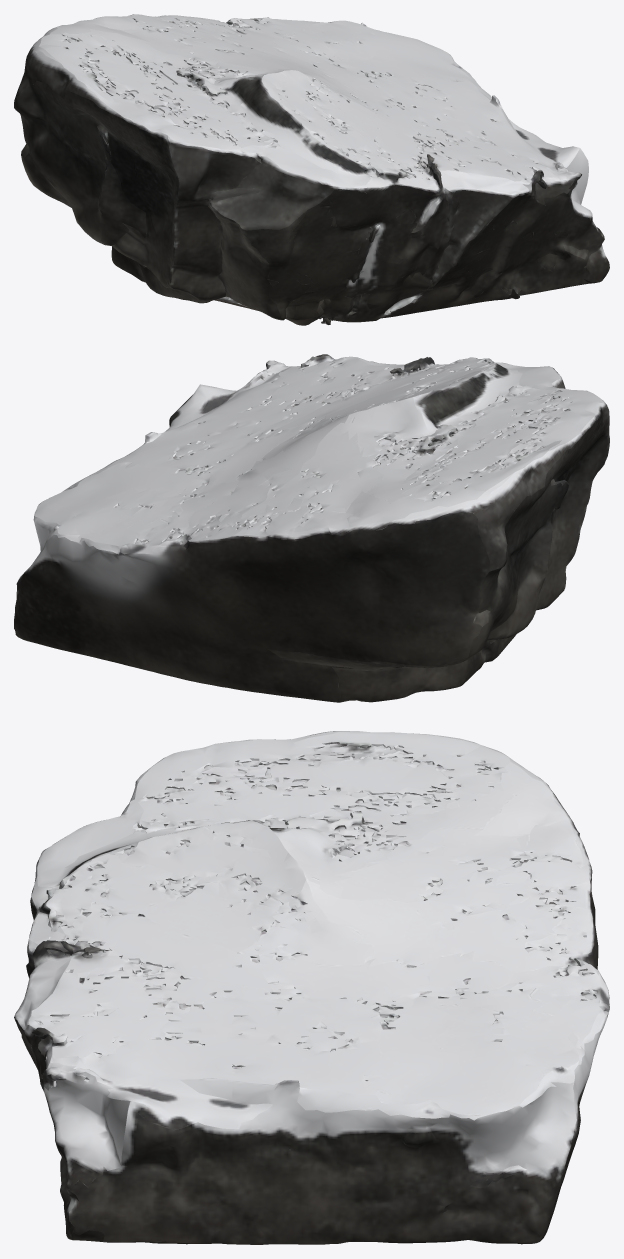
The picture shows the model from 3 angles, top to bottom: view 1: azimuth 30°, elevation 25°; view 2: azimuth 150°, elevation 25°; view 3: azimuth 270°, elevation 25°; orthographic projection. The views are drawn at different scales.
Visible parts, largest first — view 1: world; view 2: world; view 3: world.
Part boxes in pixels (x1,y1,x2,y2): world: (14,14,609,325); world: (14,354,609,702); world: (14,731,609,1244).
Size of the model in its own units: 0.45 by 0.2135 by 0.4335.
Materials: 1 (1 with a texture image).
